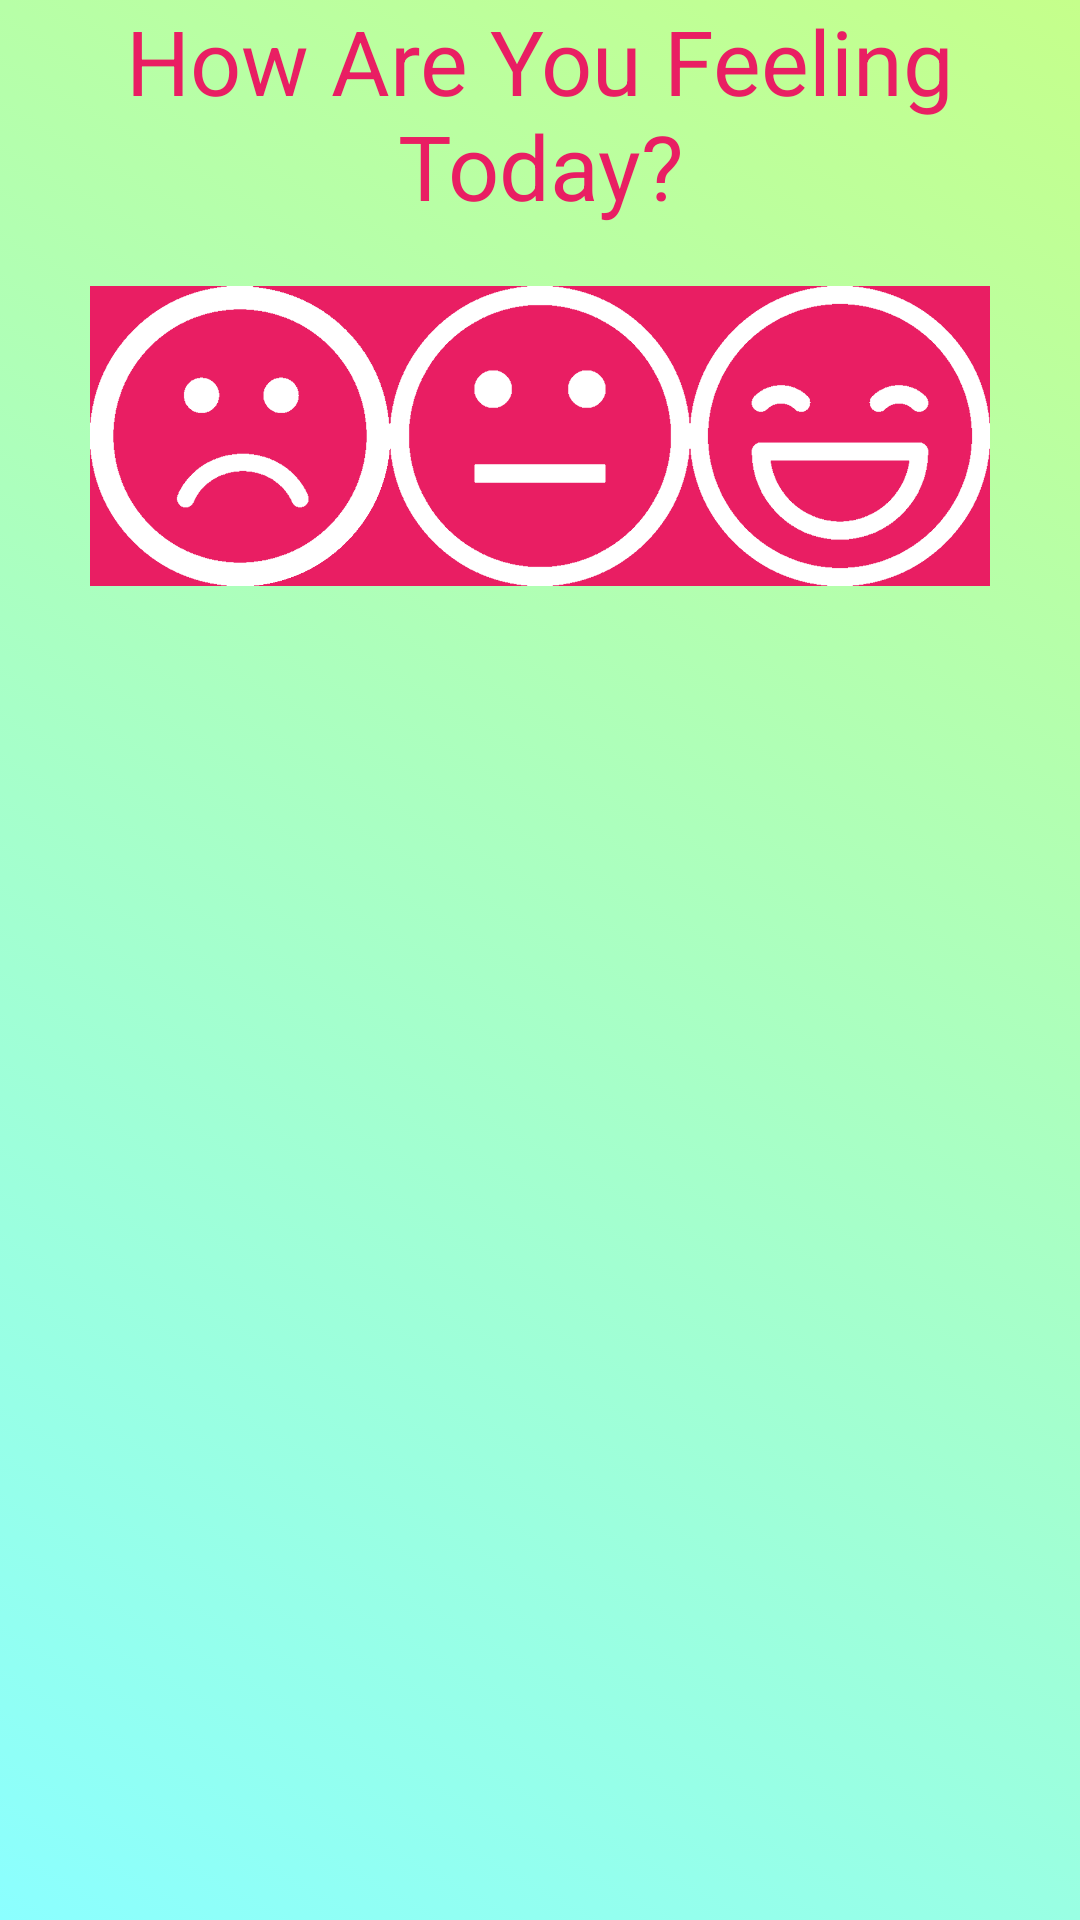

Icon click points for this 1080w x 1920h phone screenshot, format (x=x, y=y):
happy: (x=840, y=436)
neutral: (x=540, y=436)
sad: (x=240, y=436)
